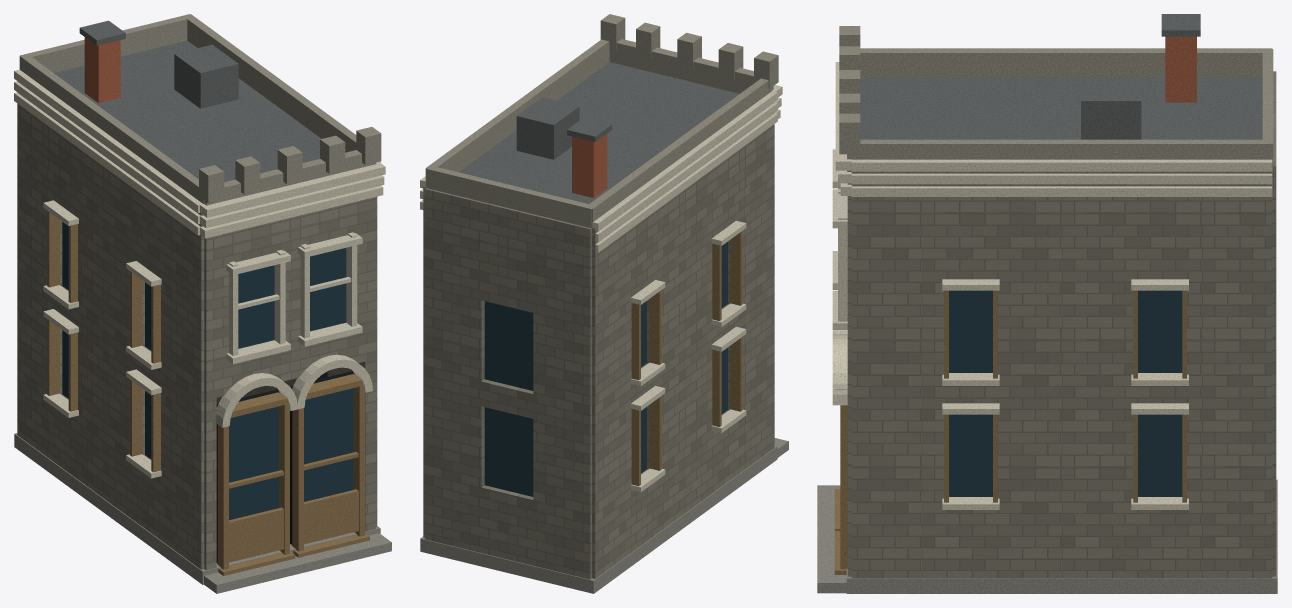
The model's file is CLSTGA21_lod2.glb.
3 renders of one model, left to right at view 1: azimuth 30°, elevation 25°; view 2: azimuth 150°, elevation 25°; view 3: azimuth 270°, elevation 25°, orthographic. The views are drawn at different scales.
Visible parts, largest first — view 1: CLSTGA21_LOD2; view 2: CLSTGA21_LOD2; view 3: CLSTGA21_LOD2.
Part boxes in pixels (x1,y1,x2,y2): CLSTGA21_LOD2: [14, 14, 391, 593]; CLSTGA21_LOD2: [420, 14, 788, 593]; CLSTGA21_LOD2: [817, 14, 1277, 593].
Size of the model in its own units: 3.71 by 7.85 by 6.57.
Materials: 9 (7 with a texture image).
